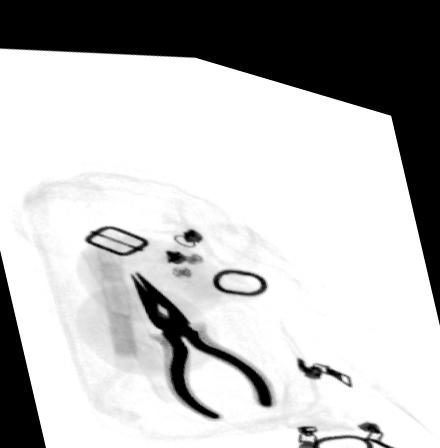Pliers: (127, 262, 276, 408)
